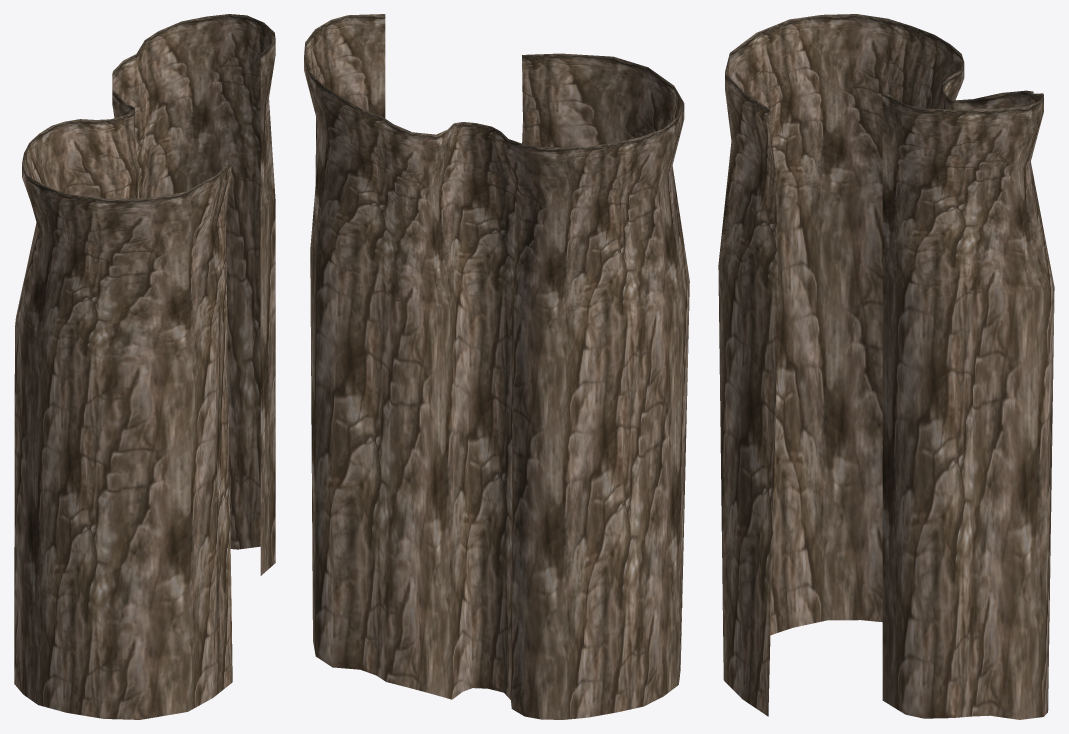
The model's file is OVERHILL_A_01_LINE145.fbx.
3 views of the same model, side by side, from view 1: azimuth 30°, elevation 25°; view 2: azimuth 150°, elevation 25°; view 3: azimuth 270°, elevation 25° (orthographic). The views are drawn at different scales.
Visible parts, largest first — view 1: OVERHILL_A_01_LINE145; view 2: OVERHILL_A_01_LINE145; view 3: OVERHILL_A_01_LINE145.
Part boxes in pixels (x1,y1,x2,y2): OVERHILL_A_01_LINE145: [14, 14, 275, 719]; OVERHILL_A_01_LINE145: [304, 14, 689, 719]; OVERHILL_A_01_LINE145: [718, 14, 1054, 719].
Size of the model in its own units: 145973 by 284715 by 128705.
Materials: 2 (2 with a texture image).
